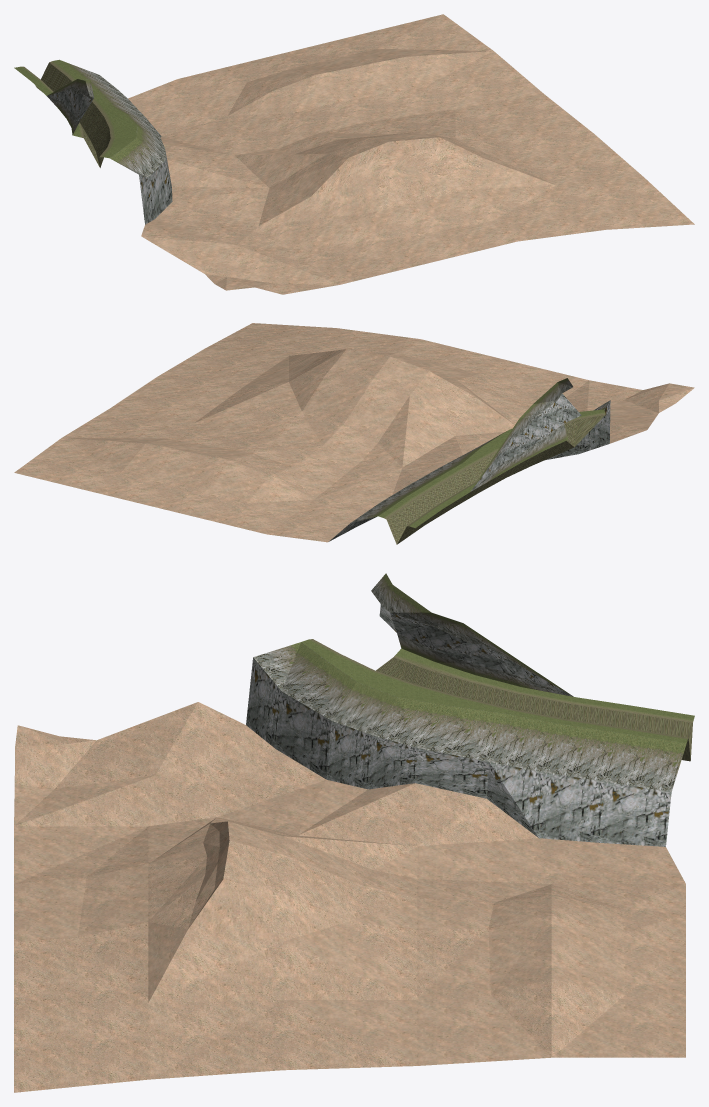
File: cs_landbit_64.obj
3 views of the same model, one above another, from view 1: azimuth 30°, elevation 25°; view 2: azimuth 150°, elevation 25°; view 3: azimuth 270°, elevation 25° (orthographic). The views are drawn at different scales.
Parts seen in each view (by area): view 1: cs_landbit_64; view 2: cs_landbit_64; view 3: cs_landbit_64.
Boxes of the visible parts, box(x1,y1,x2,y2) form: cs_landbit_64: box(14, 14, 694, 294); cs_landbit_64: box(14, 323, 694, 544); cs_landbit_64: box(14, 573, 694, 1092).
Size of the model in its own units: 250 by 78.36 by 228.
5 materials, 5 textured.
